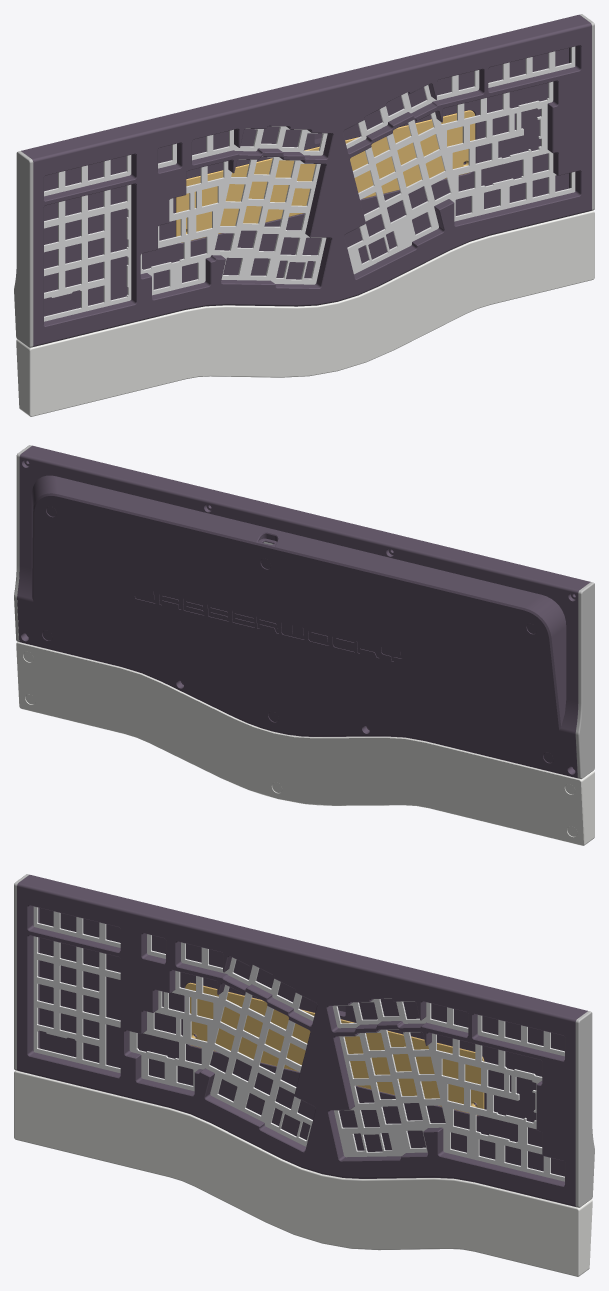
Rendered from jabberwocky-nopunin10did.fbx.
3 views of the same model, one above another, from view 1: azimuth 30°, elevation 25°; view 2: azimuth 150°, elevation 25°; view 3: azimuth 330°, elevation 25° (orthographic).
Parts seen in each view (by area): view 1: Top, Rest, Plate, Bottom, Weight, LCap, RCap; view 2: Bottom, Rest, Top, LCap, RCap; view 3: Top, Rest, Plate, Bottom, Weight, RCap, LCap.
Boxes of the visible parts, x1,y1,x2,y2 form: Top: (26, 18, 591, 346); Rest: (16, 210, 594, 416); Plate: (44, 46, 575, 321); Bottom: (21, 14, 583, 316); Weight: (176, 110, 475, 242); LCap: (14, 151, 33, 347); RCap: (570, 14, 594, 210); Bottom: (17, 450, 583, 778); Rest: (16, 642, 594, 845); Top: (26, 445, 590, 586); LCap: (575, 582, 594, 779); RCap: (14, 445, 31, 641); Top: (17, 878, 582, 1206); Rest: (14, 1070, 592, 1276); Plate: (33, 906, 564, 1181); Bottom: (25, 874, 587, 1176); Weight: (185, 982, 484, 1115); RCap: (575, 1011, 594, 1207); LCap: (14, 874, 38, 1070).
Bounding box in the file's own units: 473 × 228 × 31.82.
